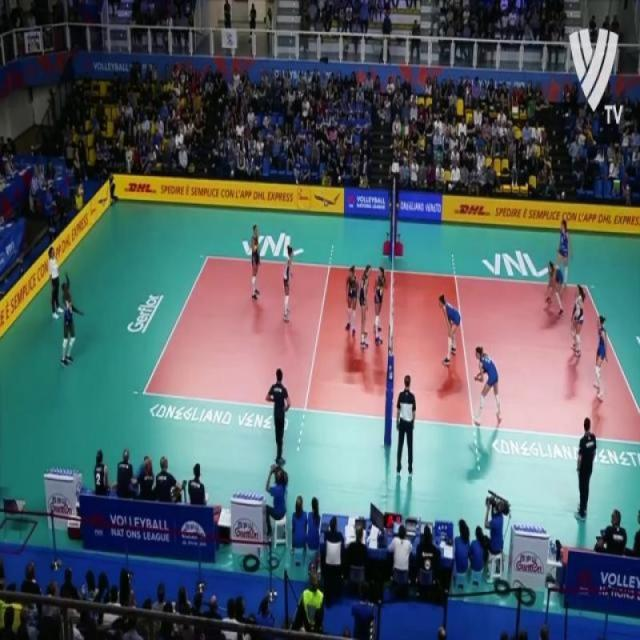volleyball: (78, 184, 84, 196)
